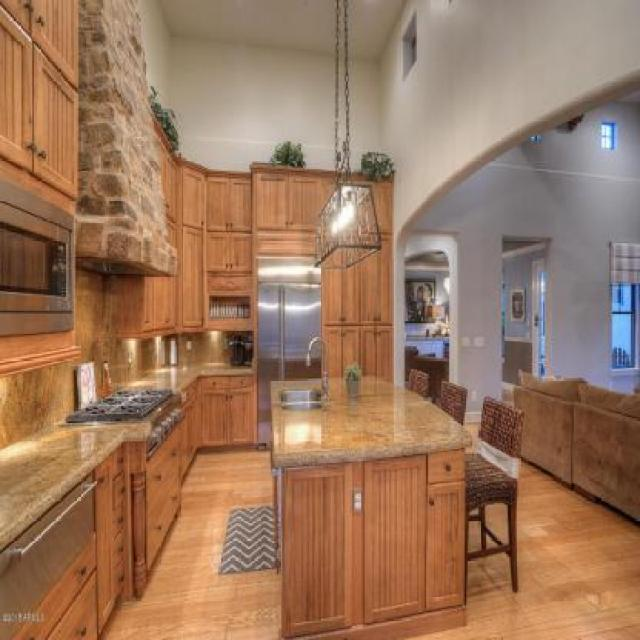Floor: (402, 458, 639, 639), (98, 449, 281, 639), (486, 504, 509, 546), (463, 424, 480, 454), (467, 521, 481, 552), (469, 508, 479, 517)
